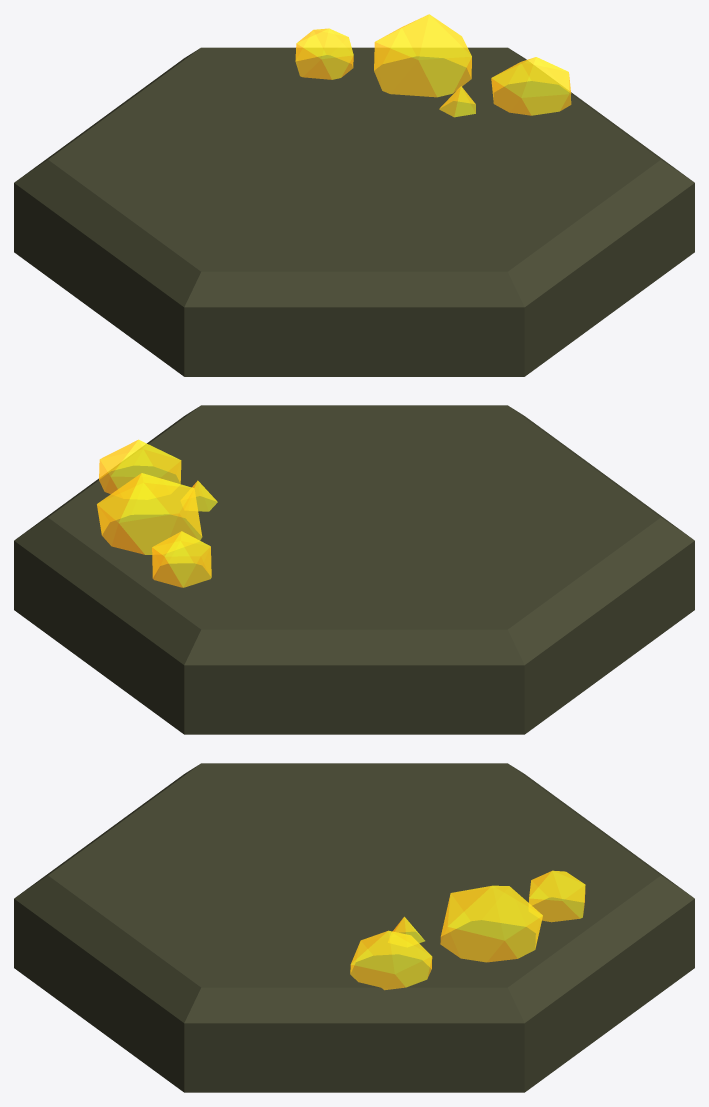
Rendered from GroundUnit(7).fbx.
3 views of the same model, one above another, from view 1: azimuth 30°, elevation 25°; view 2: azimuth 150°, elevation 25°; view 3: azimuth 270°, elevation 25° (orthographic).
Visible parts, largest first — view 1: GroundUnit2.3; view 2: GroundUnit2.3; view 3: GroundUnit2.3.
Part boxes in pixels (left/top/right/bottom): GroundUnit2.3: left=14, top=14, right=694, bottom=376; GroundUnit2.3: left=14, top=405, right=694, bottom=734; GroundUnit2.3: left=14, top=763, right=694, bottom=1092.
Bounding box in the file's own units: 1.73 × 2 × 0.4943.
